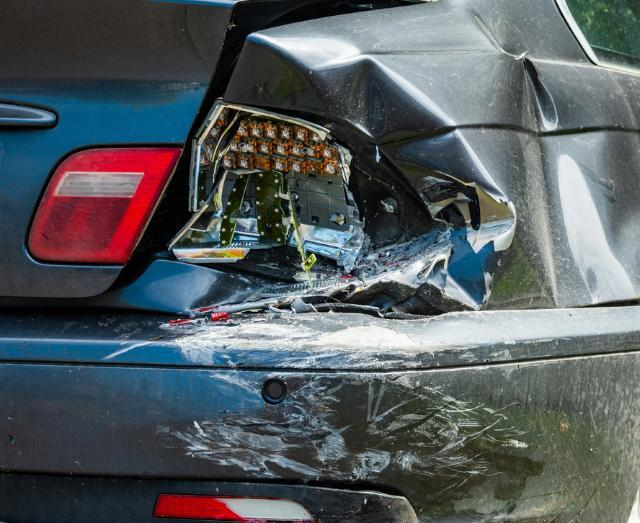Bumper: (95, 319, 500, 504)
Fender: (421, 61, 640, 313)
Light: (186, 108, 403, 306)
